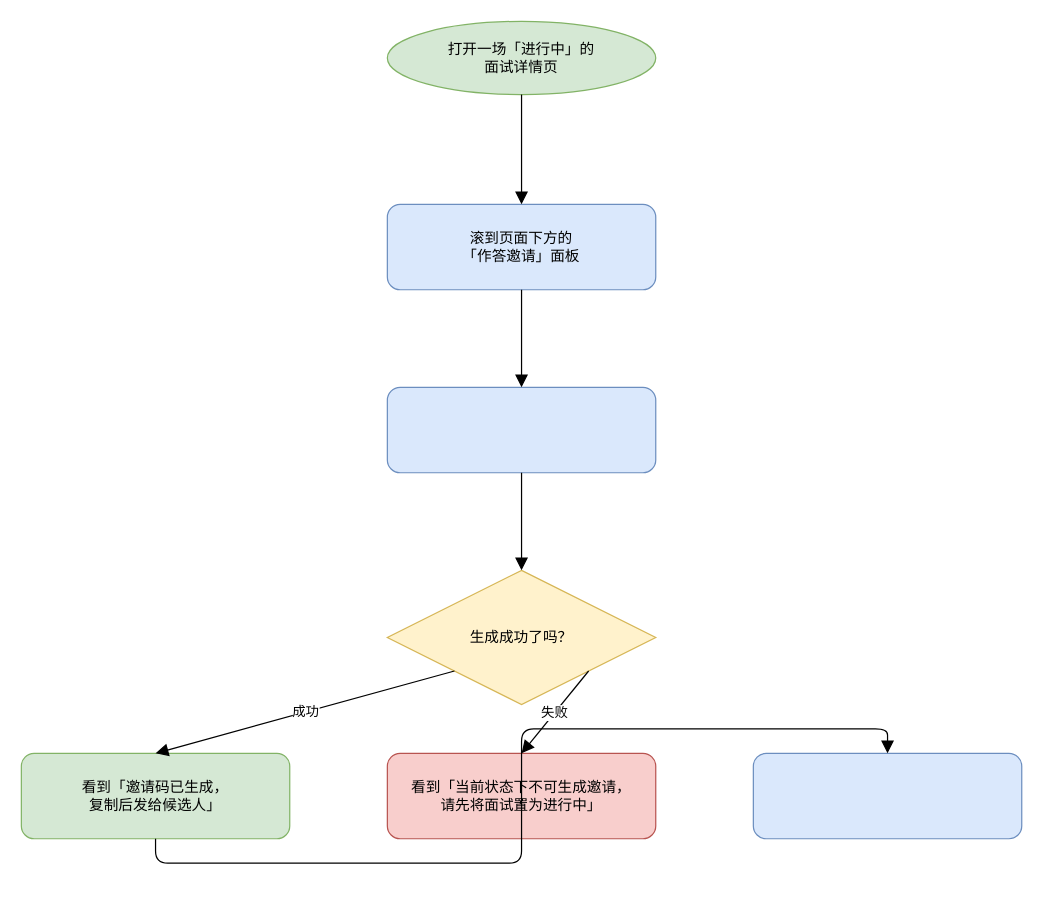
Some shapes in this 1043 by 897 pixel diagram are drawn without their labels. The box of each missing label's shape, as (x1, y1, x2, y2) in pixels:
点「复制」把码发给候选人， 看到「邀请码已复制」: (752, 752, 1022, 839)
点「生成邀请码」: (386, 386, 656, 473)
